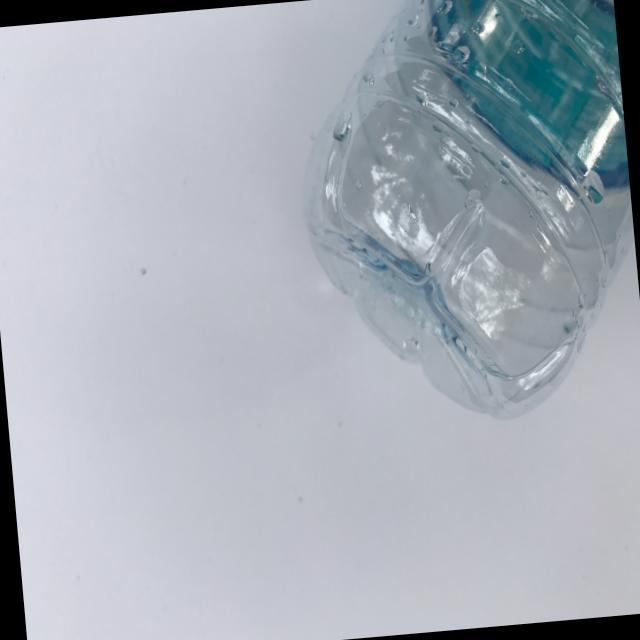Plastic: (262, 0, 640, 456)
